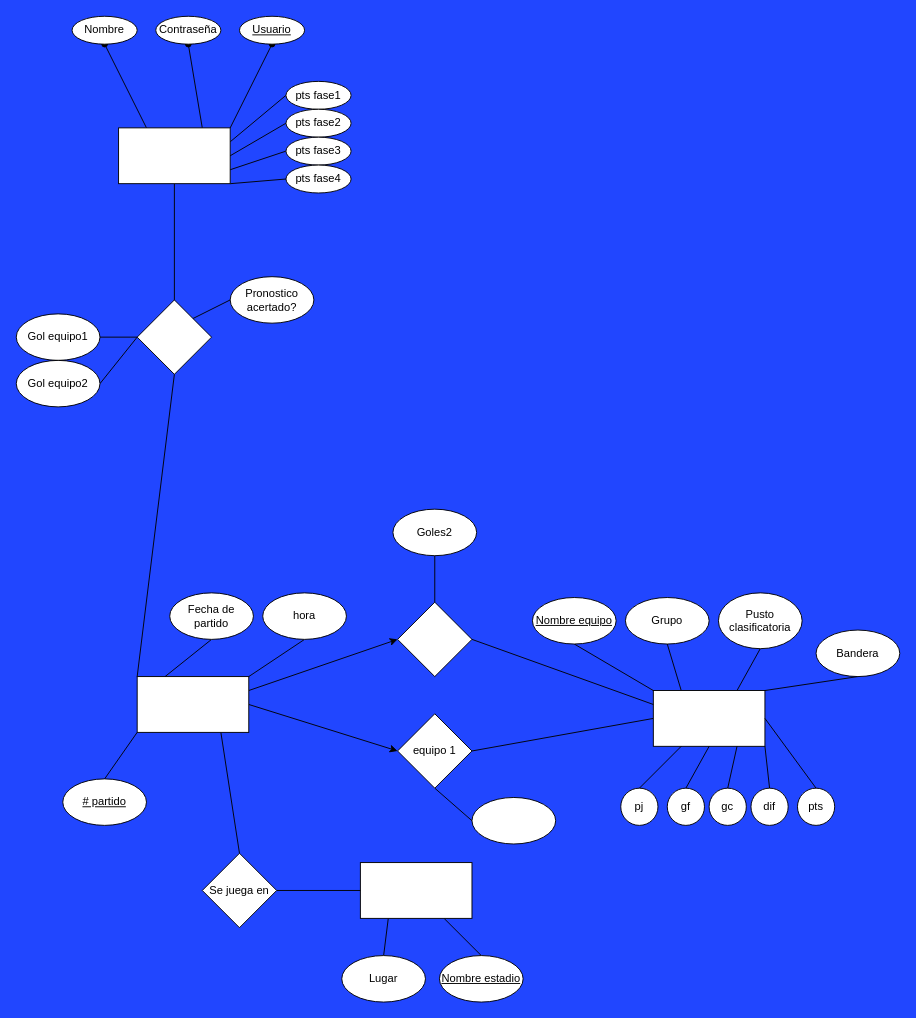
The diagram is 916 pixels wide and 1018 high, and some of its shapes have lost their labels. Here are the shapes that lost their labels. From the top down, the box of each, then its label:
(118, 127, 230, 184): USUARIOS
(136, 299, 212, 374): Participa en QUINIELA
(397, 601, 472, 677): equipo 2
(136, 676, 249, 732): Partidos
(652, 690, 765, 746): Equipos
(471, 797, 556, 844): Goles1
(359, 862, 472, 918): Estadios
